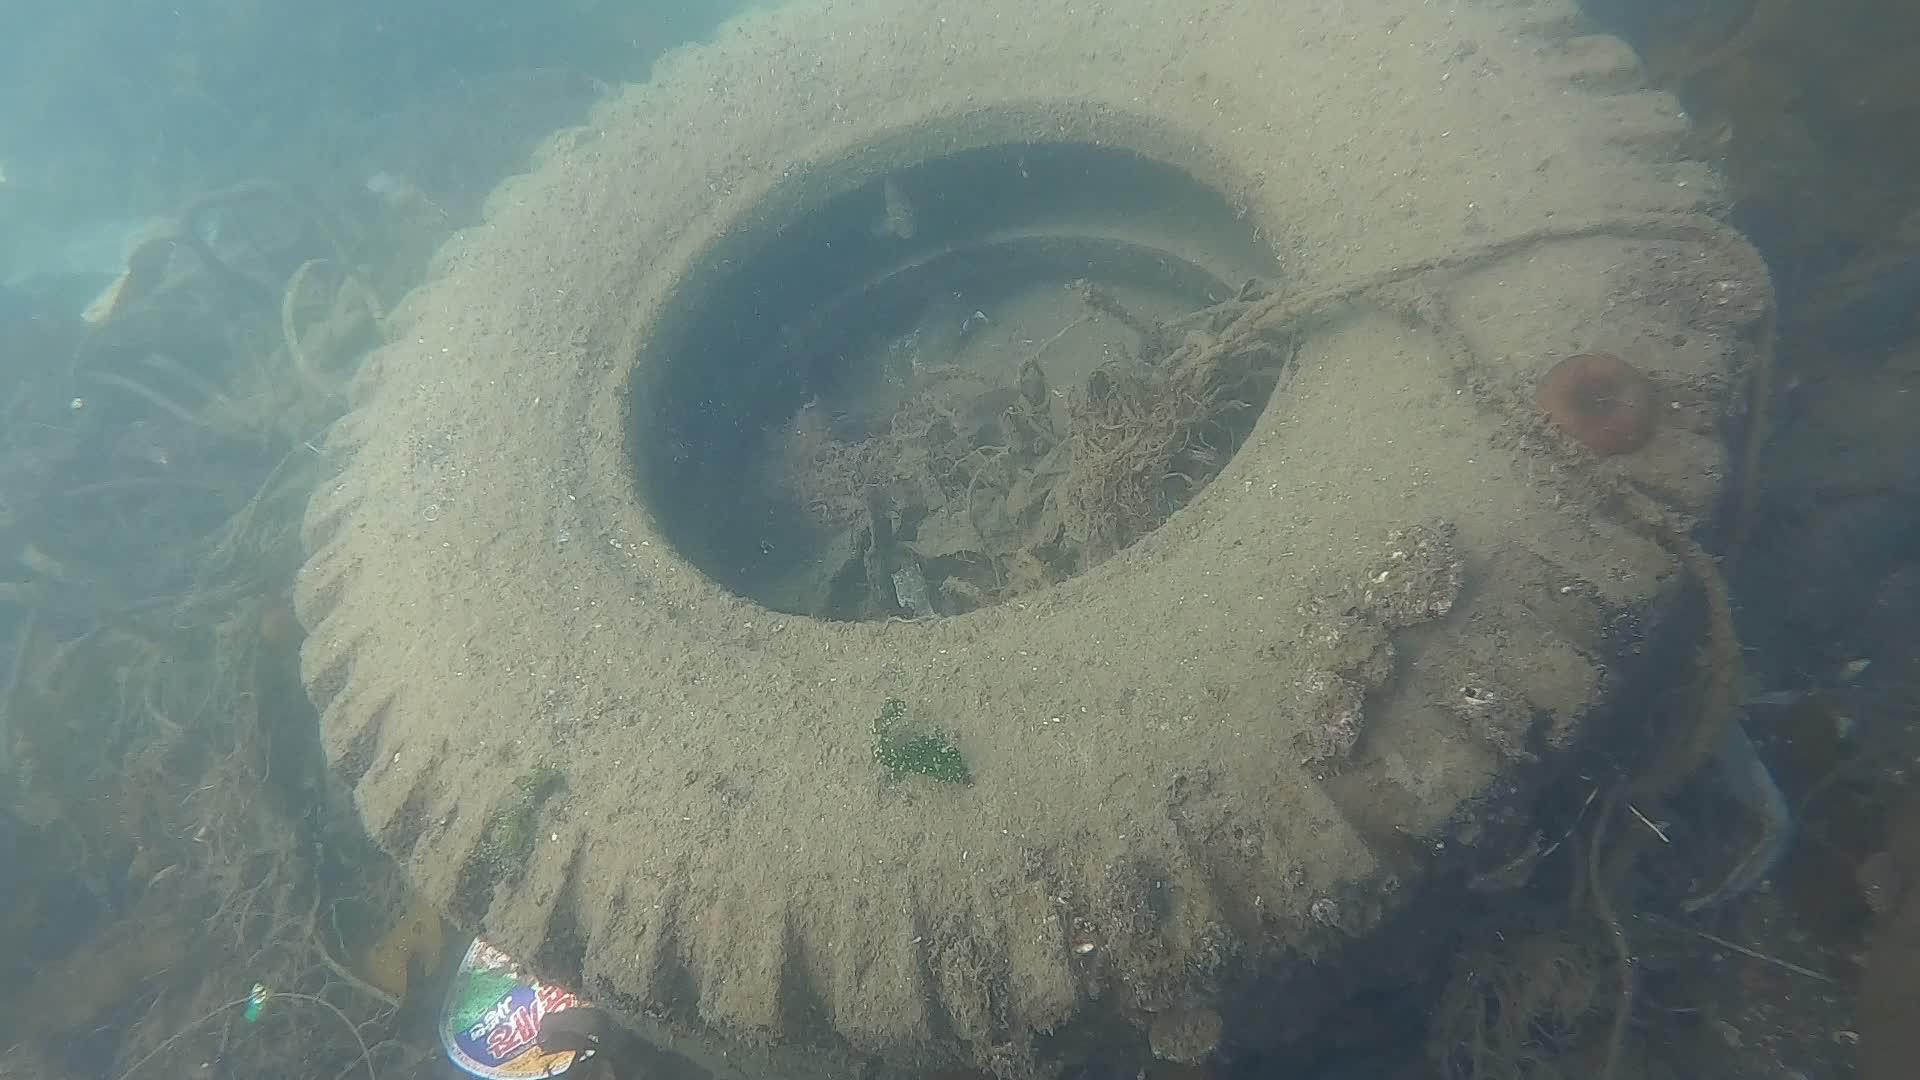bundle of ropes: (1249, 198, 1778, 1080)
tire: (291, 0, 1753, 1073)
